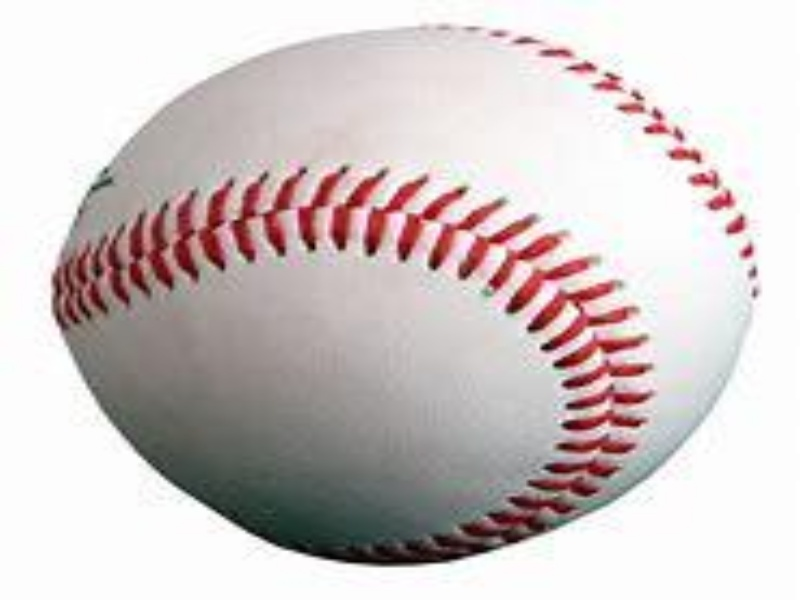baseball: (26, 15, 768, 575)
